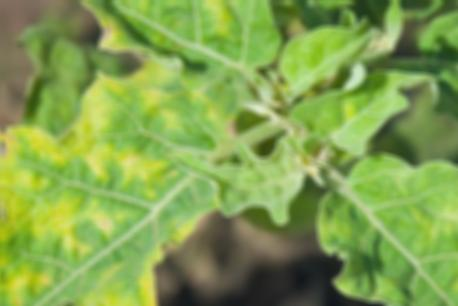Tomato leaf mosaic virus: (0, 74, 241, 306), (323, 129, 458, 306), (22, 0, 292, 86), (296, 56, 426, 161), (165, 134, 311, 214)
